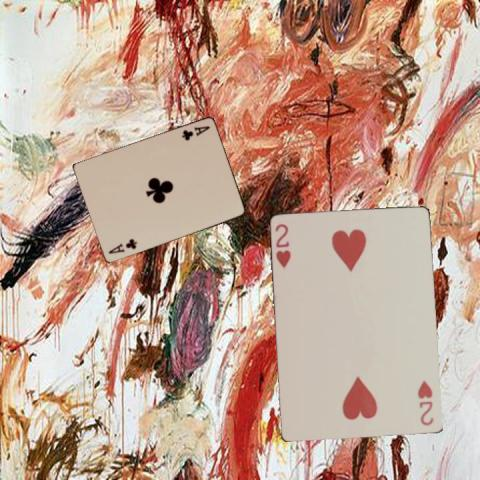2h: (414, 376, 435, 426), (272, 221, 292, 269)
Ac: (105, 236, 138, 255), (178, 123, 210, 142)
